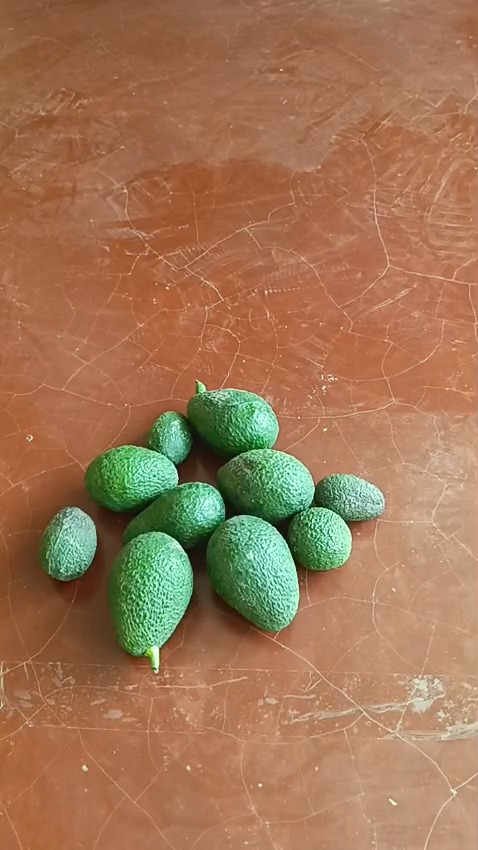Primera: (106, 530, 194, 665), (205, 513, 299, 630), (216, 448, 314, 522), (187, 380, 279, 457)
Segunda: (123, 480, 226, 548), (84, 445, 178, 512)
Tercera: (38, 505, 98, 581), (285, 505, 353, 571), (312, 473, 386, 522), (146, 410, 194, 465)
